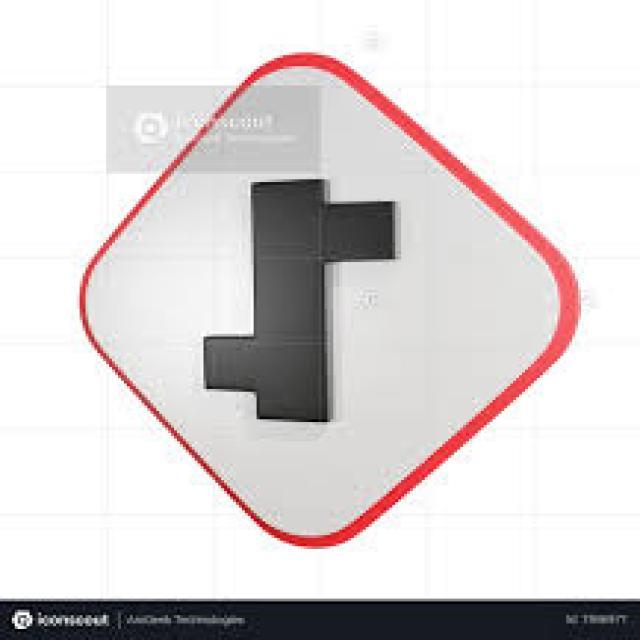staggered intersection: (72, 51, 573, 547)
